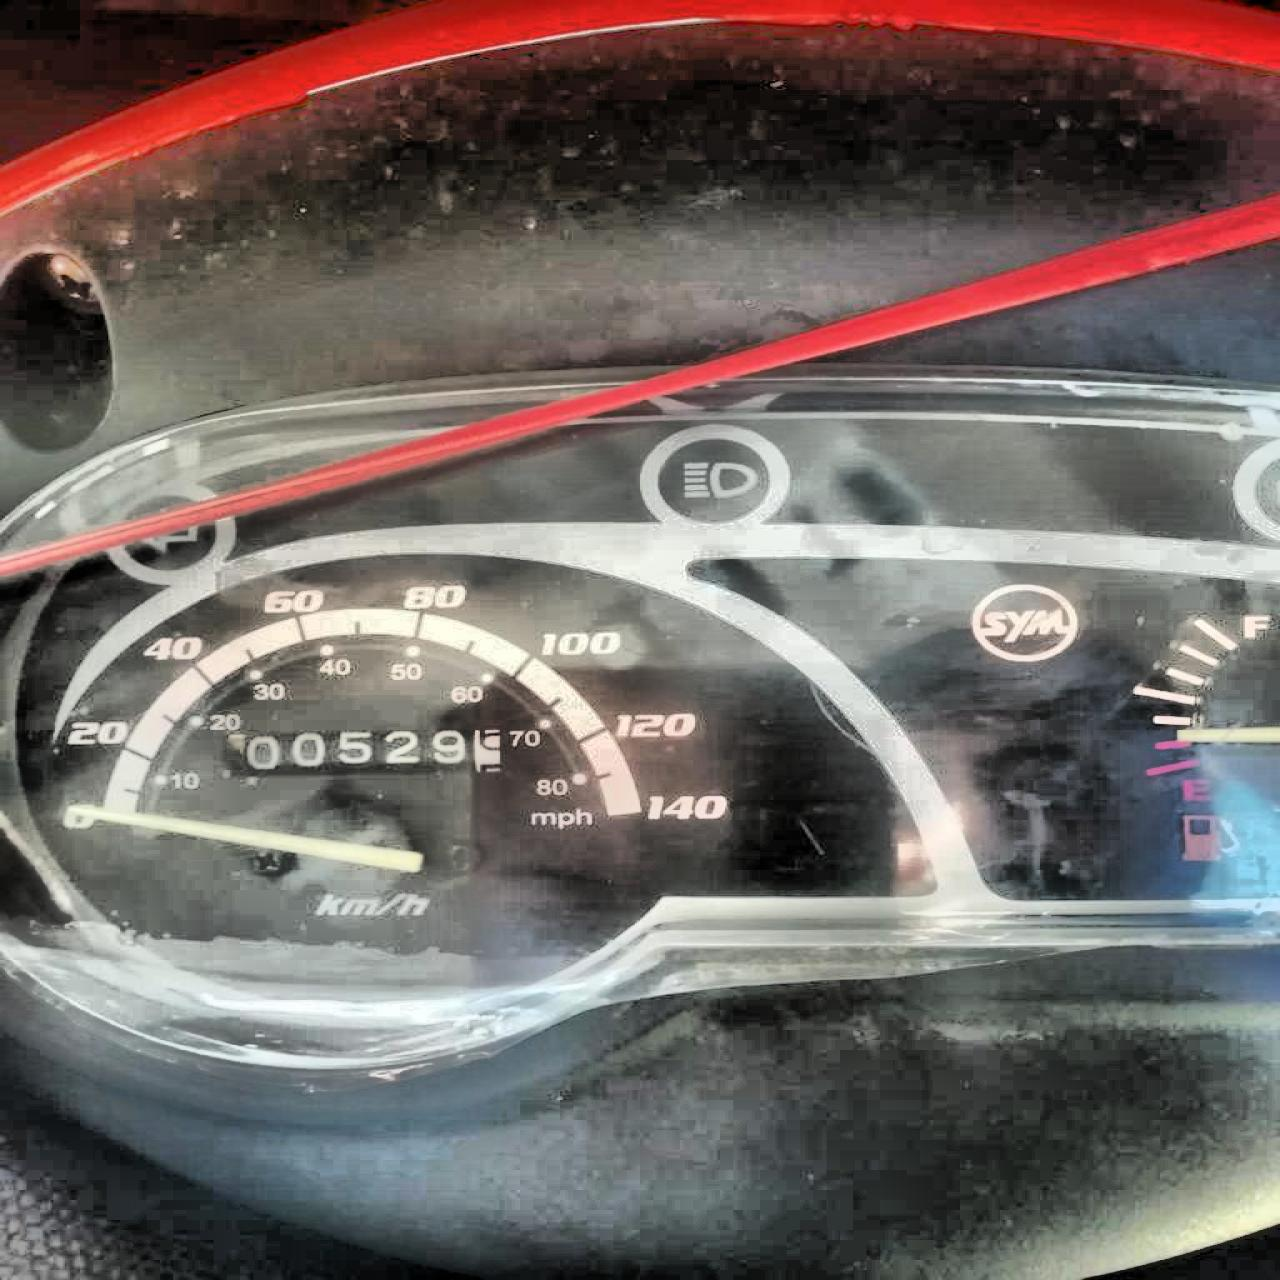0: (288, 731, 324, 767), (245, 736, 278, 769)
2: (383, 729, 418, 763)
5: (336, 731, 370, 764)
6: (477, 721, 505, 750)
9: (430, 729, 465, 763)
odometer: (222, 724, 505, 779)
